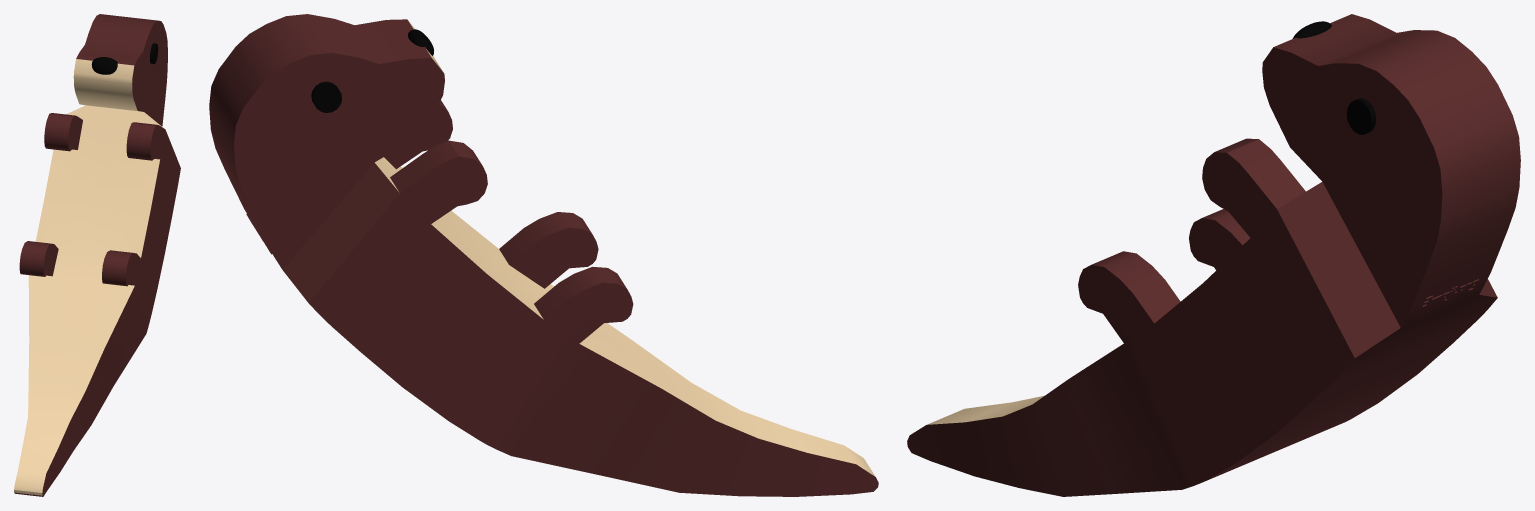
The model's file is otter.glb.
3 views of the same model, side by side, from view 1: azimuth 30°, elevation 25°; view 2: azimuth 150°, elevation 25°; view 3: azimuth 270°, elevation 25° (orthographic). The views are drawn at different scales.
Parts seen in each view (by area): view 1: Plane.145, Cube.6273; view 2: Plane.145, Circle.1932; view 3: Plane.145, Circle.1932.
Boxes of the visible parts, x1,y1,x2,y2 form: Plane.145: (14,14,180,496); Cube.6273: (91,57,117,74); Plane.145: (209,14,878,496); Circle.1932: (311,81,341,112); Plane.145: (907,14,1520,496); Circle.1932: (1346,98,1376,134).
Size of the model in its own units: 1.91 by 2.04 by 1.91.
Materials: 1 (1 with a texture image).
